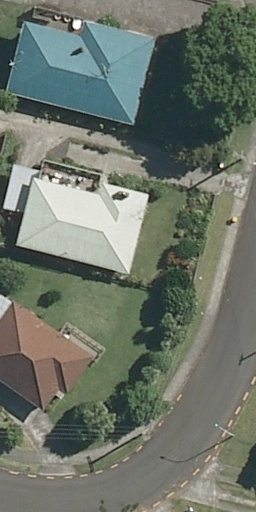DT: (227, 147, 252, 172), (137, 417, 156, 445)
